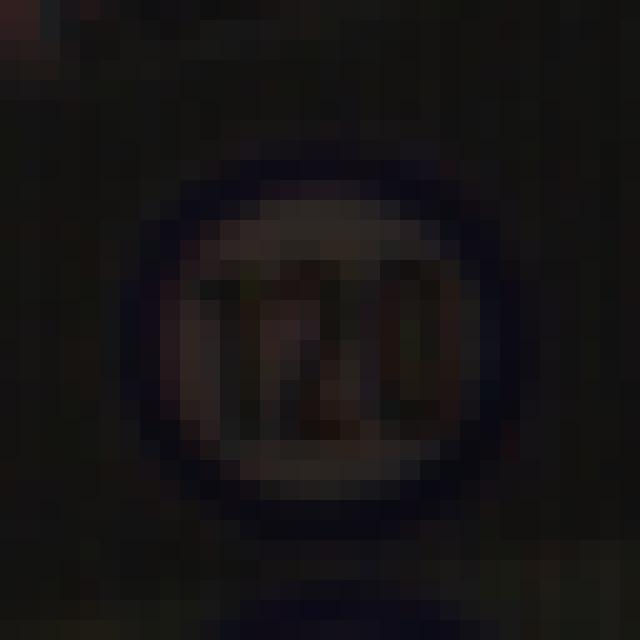SPEED LIMIT 120: (122, 157, 530, 546)
